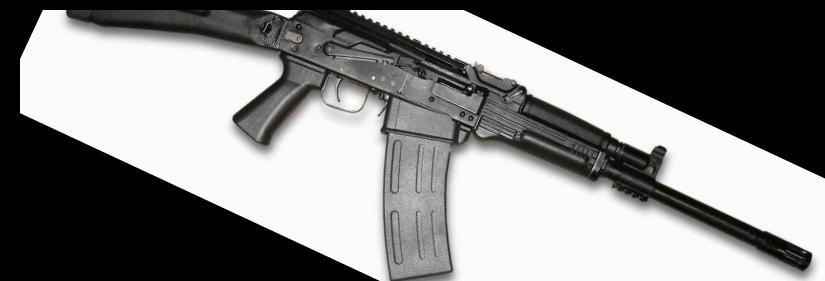larga: (64, 12, 815, 281)
